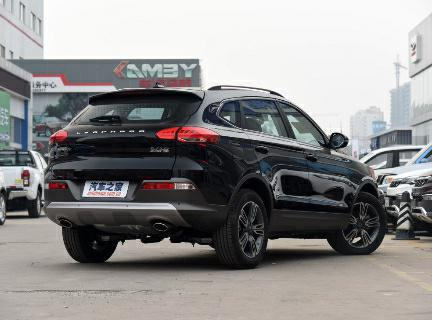猎豹汽车-猎豹CS10: (36, 80, 395, 267)
